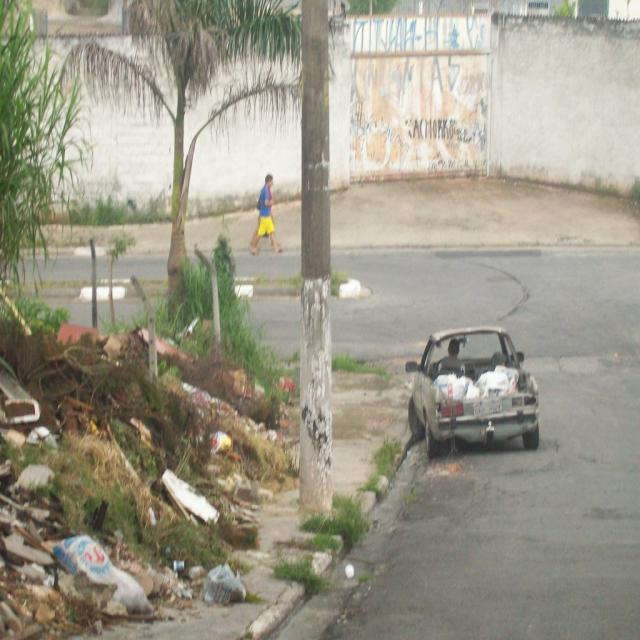car: (407, 320, 541, 457)
